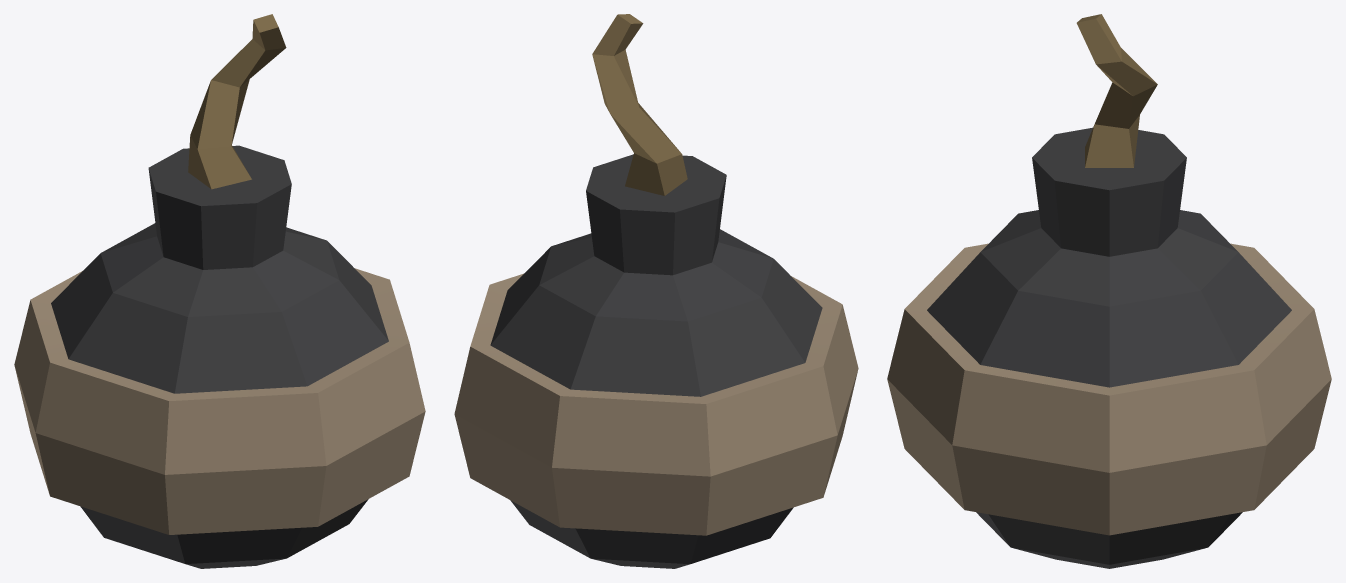
Rendered from SM_Item_Pomb_Attachment_01.glb.
3 renders of one model, left to right at view 1: azimuth 30°, elevation 25°; view 2: azimuth 150°, elevation 25°; view 3: azimuth 270°, elevation 25°, orthographic. The views are drawn at different scales.
Visible parts, largest first — view 1: SM_Item_Pomb_Attachment_01; view 2: SM_Item_Pomb_Attachment_01; view 3: SM_Item_Pomb_Attachment_01.
Boxes of the visible parts, <box> form: SM_Item_Pomb_Attachment_01: <box>14,14,425,568</box>; SM_Item_Pomb_Attachment_01: <box>454,14,858,568</box>; SM_Item_Pomb_Attachment_01: <box>887,14,1331,568</box>.
Size of the model in its own units: 0.00156 by 0.0021 by 0.00156.
